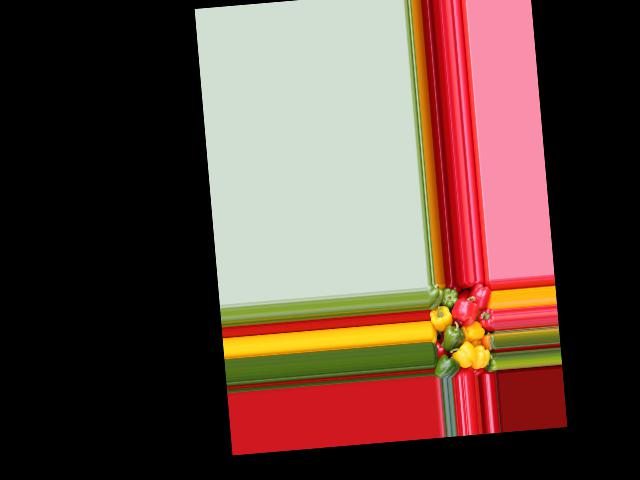bell_pepper: (485, 349, 498, 371)
